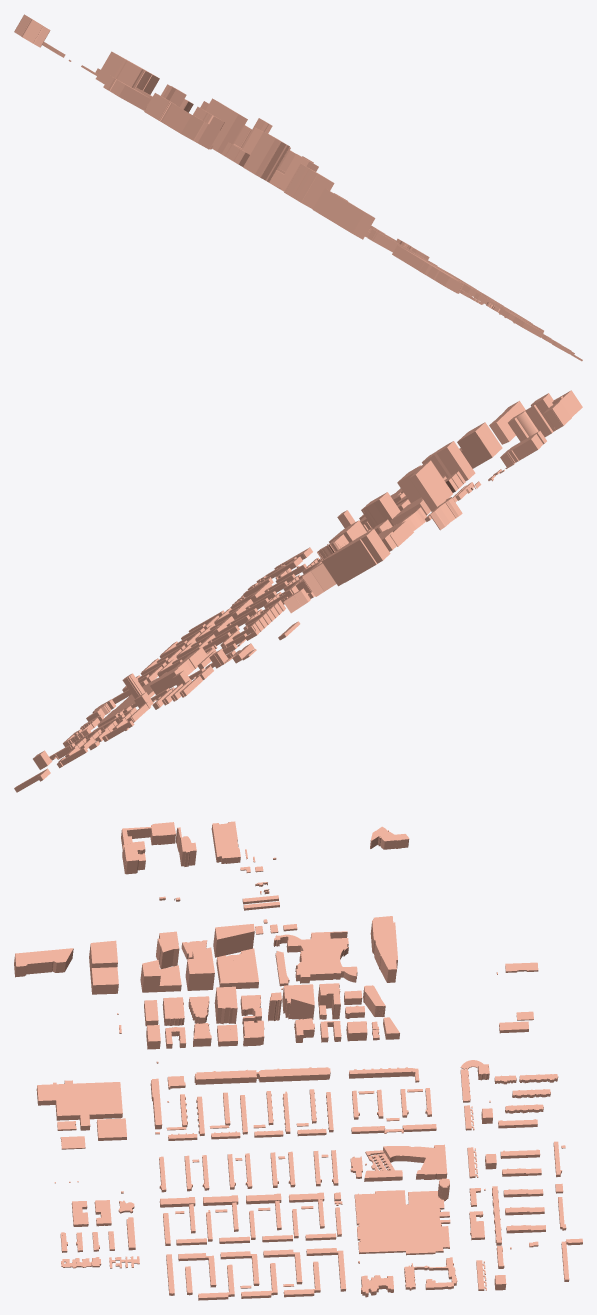
3 renders of one model, top to bottom at view 1: azimuth 30°, elevation 25°; view 2: azimuth 150°, elevation 25°; view 3: azimuth 270°, elevation 25°, orthographic. The views are drawn at different scales.
Bounding box in the file's own units: 991 × 795 × 1318.
